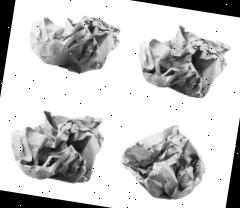paper: (5, 105, 106, 188), (115, 118, 210, 206), (132, 20, 232, 102), (24, 7, 122, 79)
